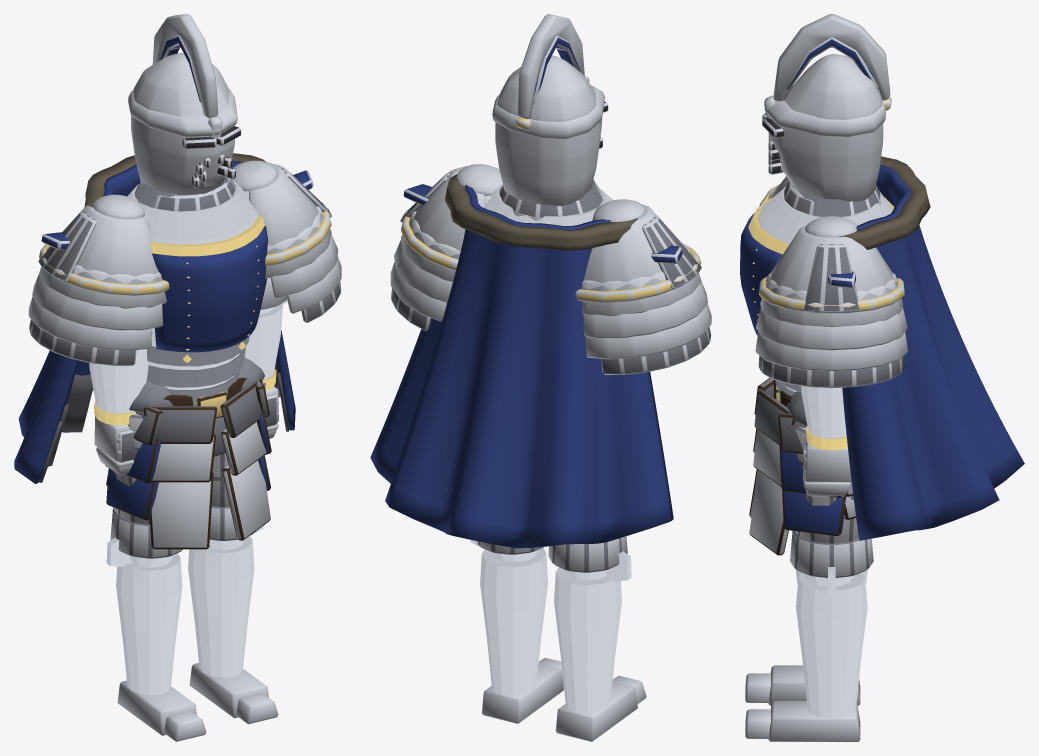
Rendered from knight_warden_heavy.glb.
The picture shows the model from 3 angles, left to right: view 1: azimuth 30°, elevation 25°; view 2: azimuth 150°, elevation 25°; view 3: azimuth 270°, elevation 25°; orthographic projection. The views are drawn at different scales.
Parts seen in each view (by area): view 1: M_Torso, M_Hips, M_ArmR_Upper, M_Head, M_ArmL_Upper, M_Cloak, M_LegR_Lower, M_LegL_Lower, M_LegR_Upper, M_FootL, M_FootR, M_ArmR_Lower (+4 smaller); view 2: M_Cloak, M_ArmR_Upper, M_Head, M_ArmL_Upper, M_LegR_Lower, M_LegL_Lower, M_FootR, M_FootL, M_LegR_Upper, M_Torso; view 3: M_Cloak, M_ArmL_Upper, M_Head, M_Hips, M_LegL_Lower, M_Torso, M_LegL_Upper, M_FootL, M_ArmL_Lower, M_HandL, M_FootR.
Part boxes in pixels (x1=…): M_Torso: x1=127, y1=177, x2=267, y2=406; M_Hips: x1=105, y1=377, x2=271, y2=549; M_ArmR_Upper: x1=28, y1=194, x2=169, y2=365; M_Head: x1=128, y1=14, x2=240, y2=211; M_ArmL_Upper: x1=231, y1=160, x2=341, y2=322; M_Cloak: x1=14, y1=153, x2=295, y2=483; M_LegR_Lower: x1=106, y1=537, x2=182, y2=695; M_LegL_Lower: x1=188, y1=526, x2=263, y2=677; M_LegR_Upper: x1=110, y1=381, x2=182, y2=558; M_FootL: x1=189, y1=663, x2=278, y2=724; M_FootR: x1=117, y1=680, x2=206, y2=741; M_ArmR_Lower: x1=89, y1=349, x2=148, y2=425; M_Cloak: x1=370, y1=174, x2=673, y2=548; M_ArmR_Upper: x1=575, y1=199, x2=711, y2=374; M_Head: x1=492, y1=14, x2=608, y2=220; M_ArmL_Upper: x1=390, y1=164, x2=502, y2=330; M_LegR_Lower: x1=554, y1=551, x2=631, y2=713; M_LegL_Lower: x1=470, y1=540, x2=547, y2=695; M_FootR: x1=555, y1=675, x2=646, y2=741; M_FootL: x1=481, y1=657, x2=563, y2=723; M_LegR_Upper: x1=548, y1=536, x2=627, y2=572; M_Torso: x1=484, y1=180, x2=613, y2=226; M_Cloak: x1=839, y1=156, x2=1024, y2=540; M_ArmL_Upper: x1=755, y1=216, x2=907, y2=387; M_Head: x1=762, y1=14, x2=891, y2=214; M_Hips: x1=749, y1=378, x2=855, y2=555; M_LegL_Lower: x1=796, y1=567, x2=867, y2=718; M_Torso: x1=740, y1=186, x2=894, y2=401; M_LegL_Upper: x1=786, y1=391, x2=873, y2=577; M_FootL: x1=745, y1=701, x2=860, y2=741; M_ArmL_Lower: x1=801, y1=386, x2=847, y2=450; M_HandL: x1=803, y1=443, x2=851, y2=496; M_FootR: x1=745, y1=665, x2=860, y2=705.
Bounding box in the file's own units: 0.8979 × 2 × 0.7378.
